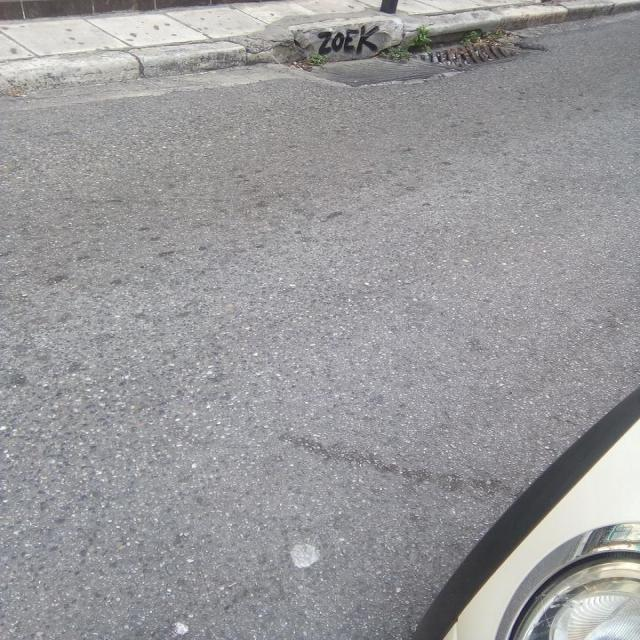nonspitting: (318, 24, 380, 54)
